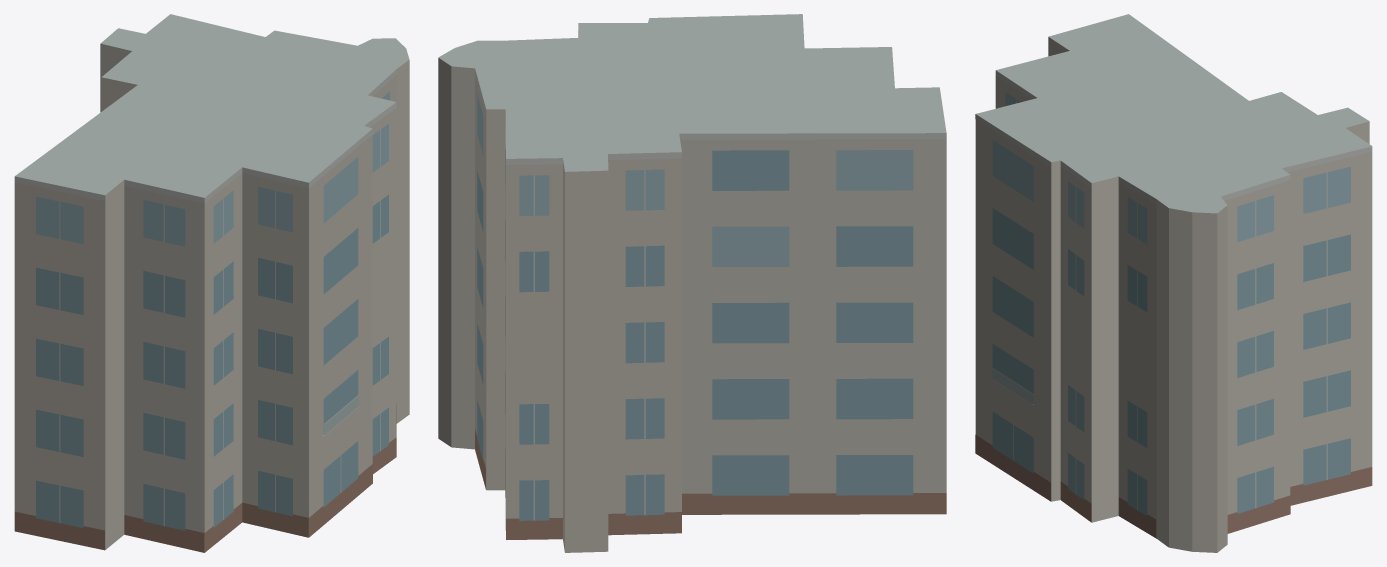
File: survey-upis-32683812.glb
3 renders of one model, left to right at view 1: azimuth 30°, elevation 25°; view 2: azimuth 150°, elevation 25°; view 3: azimuth 270°, elevation 25°, orthographic. The views are drawn at different scales.
Visible parts, largest first — view 1: survey-upis-32683812.tmp; view 2: survey-upis-32683812.tmp; view 3: survey-upis-32683812.tmp.
Boxes of the visible parts, x1,y1,x2,y2 form: survey-upis-32683812.tmp: [14, 14, 409, 552]; survey-upis-32683812.tmp: [438, 14, 946, 552]; survey-upis-32683812.tmp: [975, 14, 1372, 552].
Size of the model in its own units: 19.21 by 15.25 by 16.16.
